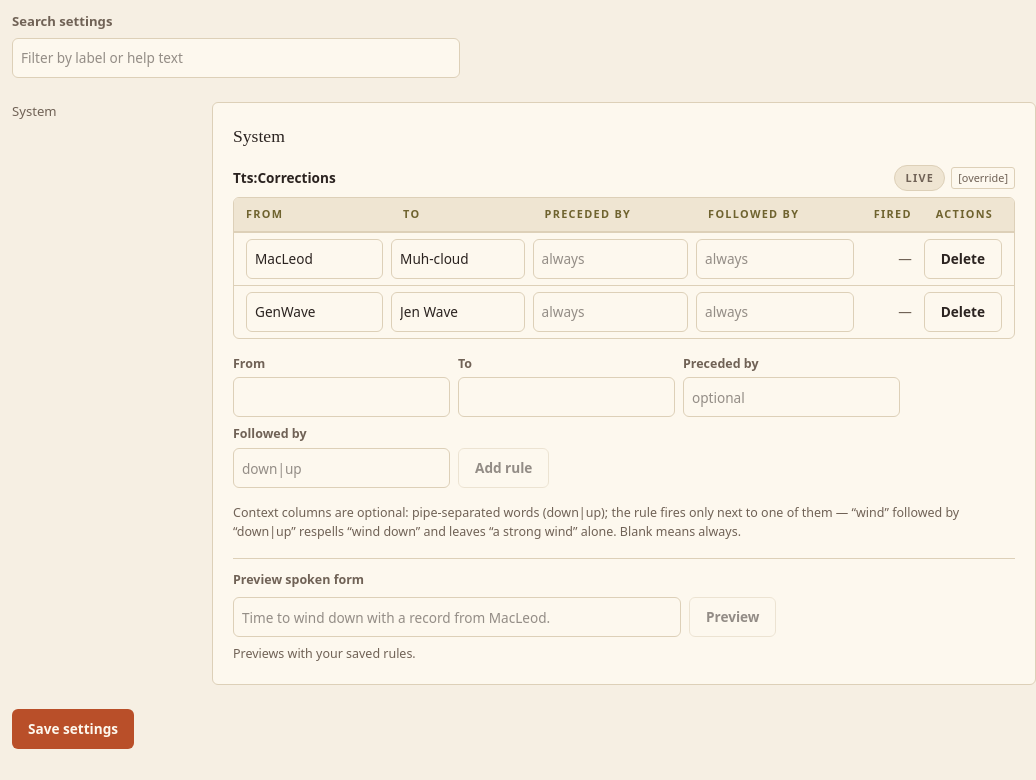
Test case: Feature: Tts:Corrections staging is unmistakable › Scenario: the unsaved-changes badge tracks the staged rules › appears when a rule is deleted
Click the button with aria-label "Delete rule 2" at (963, 312), box [924,292,1002,332]
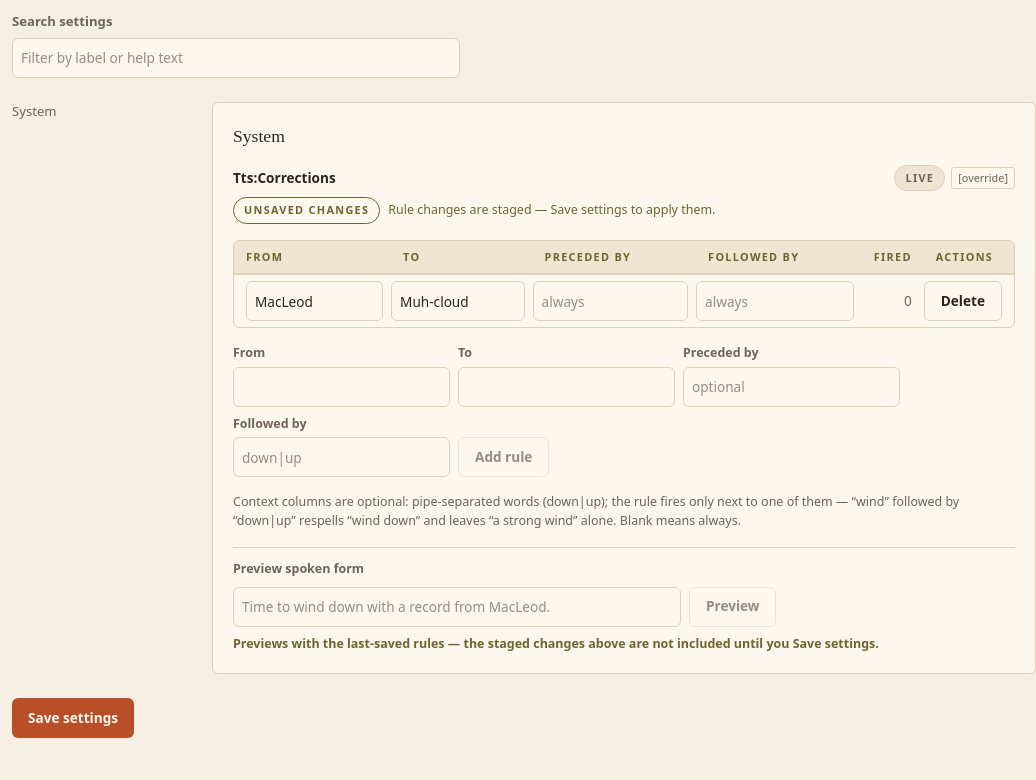
Result: the message with test id "corrections-dirty-notice" shows "Unsaved changes" at [244,202,369,217]
